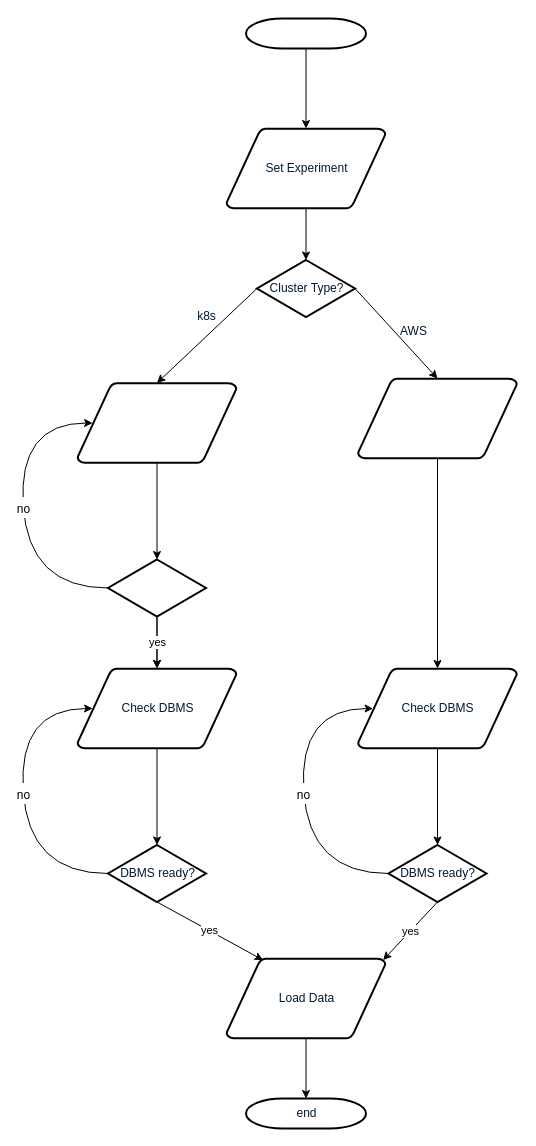
Image size: 536x1146. Some labels were removed from this diagram. The box of each missing label's shape, as (x1, y1, x2, y2) in pixels:
Check Pod: (76, 382, 237, 464)
Pod ready?: (106, 558, 206, 617)
start: (244, 17, 366, 49)
Start DBMS: (356, 377, 518, 459)
